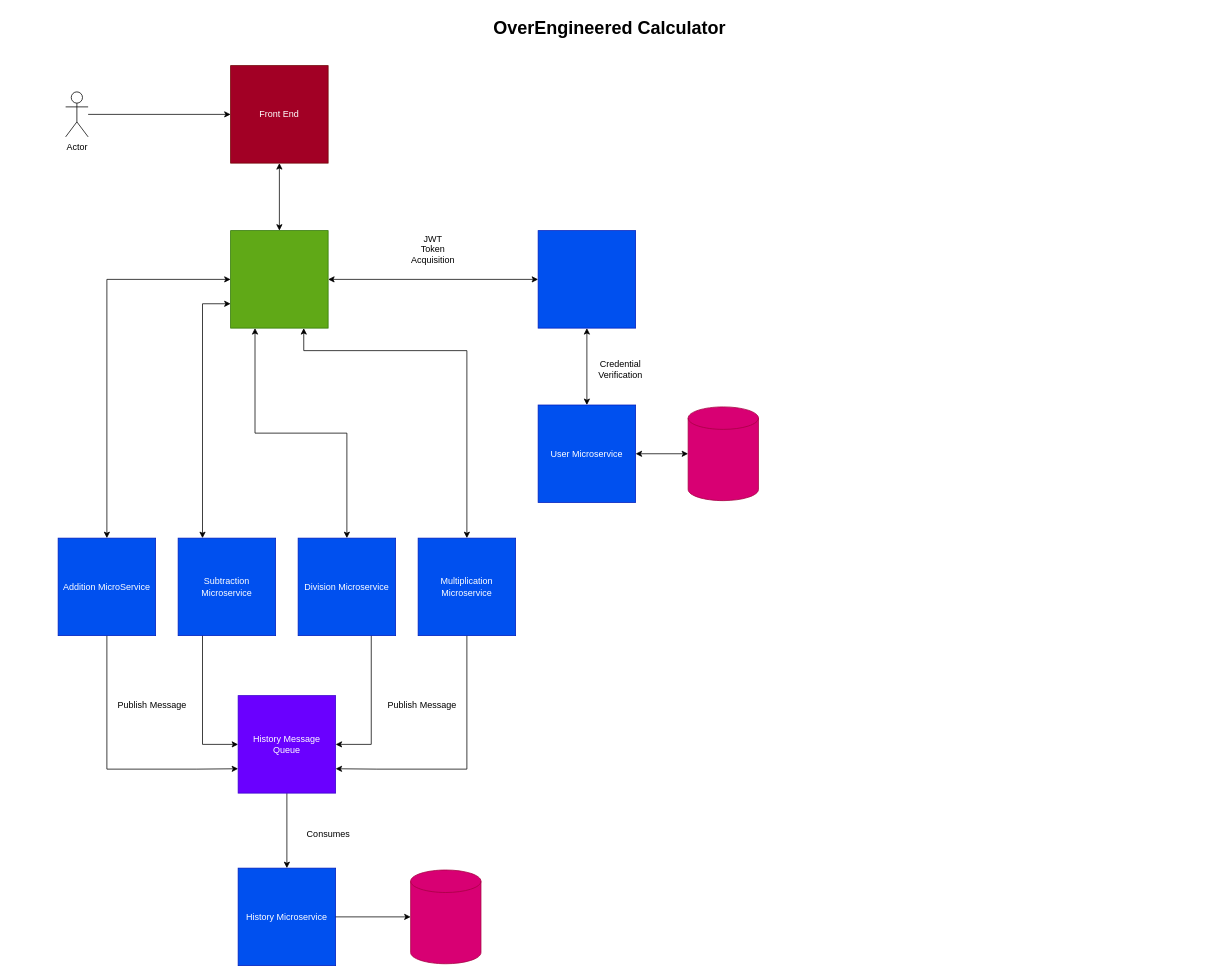
The diagram is 1218 pixels wide and 979 high, and some of its shapes have lost their labels. Each missing label, with the box of its shape:
API Gateway / BFF: (230, 230, 328, 328)
Auth Microservice: (537, 230, 636, 328)
Calculation History Database: (410, 869, 481, 964)
User Database: (687, 406, 758, 501)
